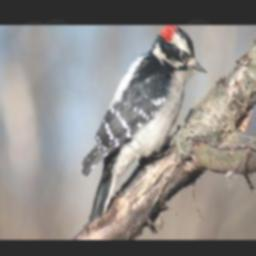Woodpecker: (80, 26, 210, 227)
